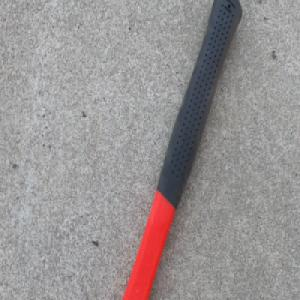Hammer: (120, 0, 244, 300)
